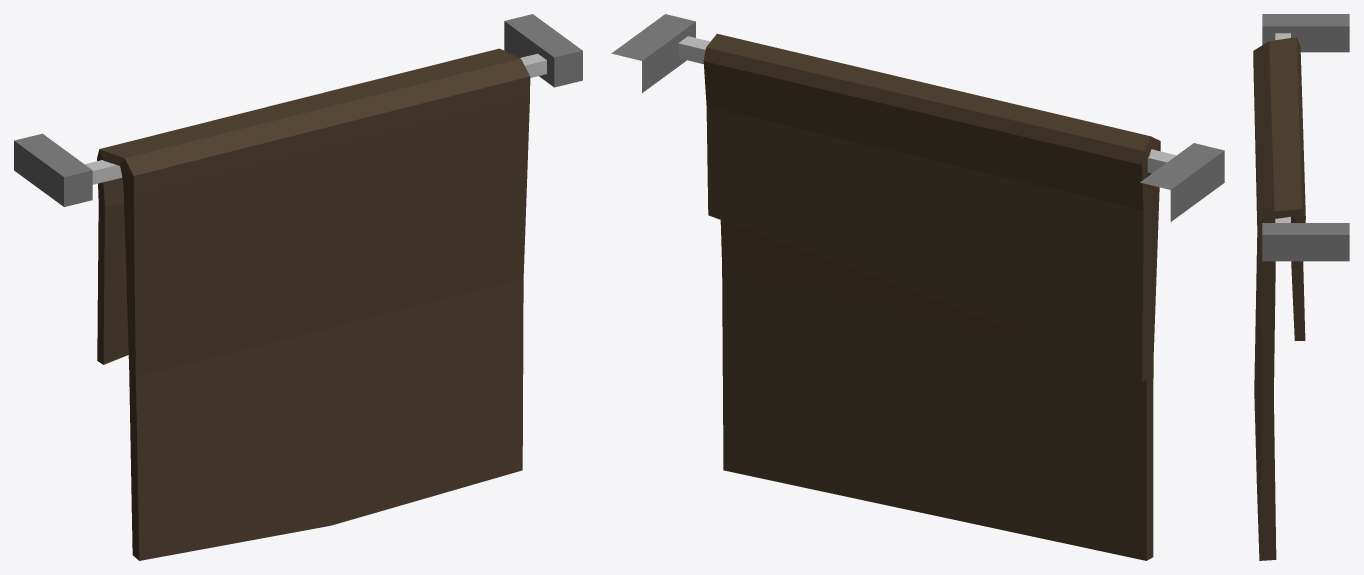
The model's file is BrownTowel.glb.
3 views of the same model, side by side, from view 1: azimuth 30°, elevation 25°; view 2: azimuth 150°, elevation 25°; view 3: azimuth 270°, elevation 25° (orthographic). The views are drawn at different scales.
Parts seen in each view (by area): view 1: BrownTowel; view 2: BrownTowel; view 3: BrownTowel.
Boxes of the visible parts, x1,y1,x2,y2 form: BrownTowel: [14, 14, 582, 560]; BrownTowel: [611, 14, 1224, 560]; BrownTowel: [1253, 14, 1349, 560].
Size of the model in its own units: 0.6988 by 0.5288 by 0.1289.
1 material, 1 textured.
